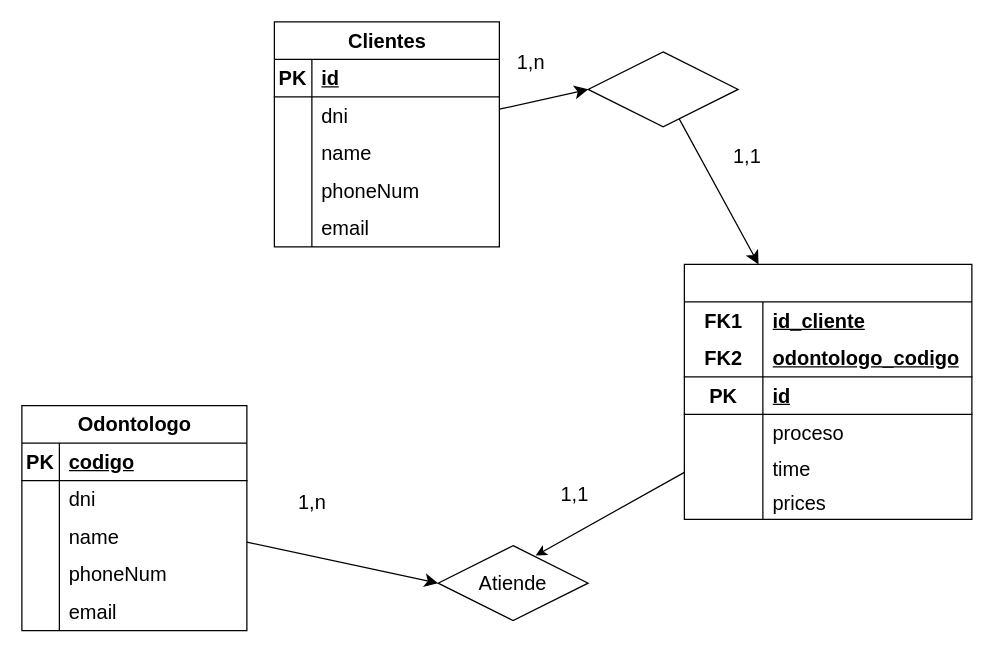
Some shapes in this 994 by 653 pixel diagram are drawn without their labels. The shapes that lost their labels are listed below. From the top down, each one's box as (x1, y1, x2, y2) in pixels, then its label:
(587, 51, 738, 127): Concerta
(683, 263, 972, 519): Visita
